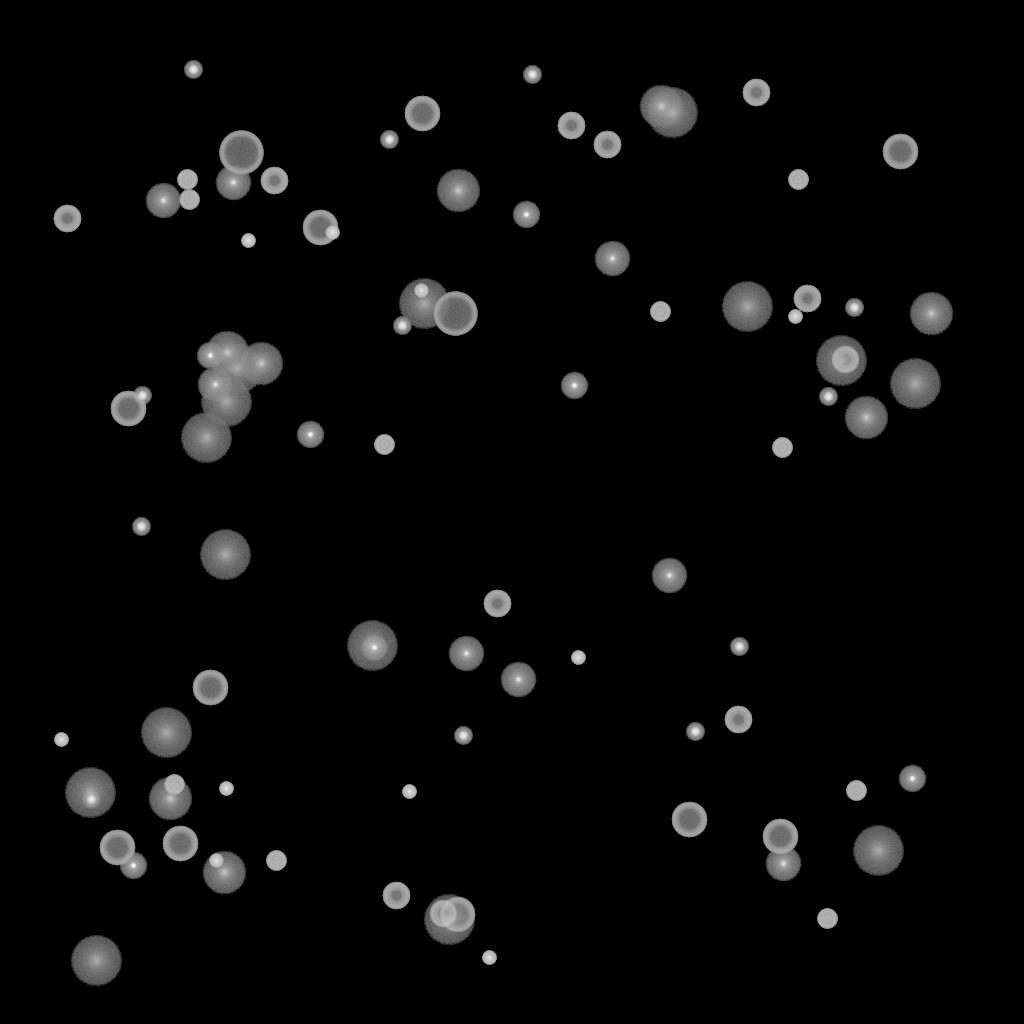depth:-10: (512, 201, 540, 229), (296, 421, 324, 449), (360, 634, 388, 662), (196, 342, 224, 370), (119, 852, 147, 880), (898, 765, 926, 793), (560, 372, 588, 400)
depth:-20: (133, 387, 151, 405), (82, 791, 100, 809), (184, 61, 202, 79), (380, 131, 398, 149), (686, 723, 704, 741), (523, 66, 541, 84), (393, 317, 411, 335), (132, 518, 150, 536), (454, 727, 472, 745), (819, 388, 837, 406), (845, 299, 863, 317), (730, 638, 748, 656)
depth:-30: (209, 854, 223, 868), (788, 310, 802, 324), (325, 226, 339, 240), (241, 234, 255, 248), (219, 782, 233, 796), (414, 284, 428, 298), (54, 733, 68, 747), (482, 951, 496, 965), (402, 785, 416, 799), (571, 651, 585, 665)
depth:-40: (650, 302, 670, 322), (179, 190, 199, 210), (846, 781, 866, 801), (266, 851, 286, 871), (788, 170, 808, 190), (817, 909, 837, 929), (177, 170, 197, 190), (374, 435, 394, 455), (164, 775, 184, 795), (772, 438, 792, 458)
depth:-50: (593, 131, 621, 159), (724, 706, 752, 734), (793, 285, 821, 313), (382, 882, 410, 910), (742, 79, 770, 107), (557, 112, 585, 140), (53, 205, 81, 233), (260, 167, 288, 195), (831, 346, 859, 374), (483, 590, 511, 618), (429, 900, 457, 928)
depth:-60: (302, 210, 338, 246), (671, 802, 707, 838), (192, 670, 228, 706), (404, 96, 440, 132), (110, 391, 146, 427), (99, 830, 135, 866), (162, 826, 198, 862), (762, 819, 798, 855), (882, 134, 918, 170), (439, 897, 475, 933)
depth:-70: (433, 292, 477, 336), (219, 131, 263, 175)
depth:0: (145, 183, 181, 219), (197, 367, 233, 403), (215, 165, 251, 201), (651, 558, 687, 594), (448, 636, 484, 672), (500, 662, 536, 698), (594, 241, 630, 277), (765, 846, 801, 882)
depth:10: (844, 396, 888, 440), (202, 851, 246, 895), (239, 342, 283, 386), (148, 777, 192, 821), (436, 169, 480, 213), (909, 292, 953, 336), (639, 85, 683, 129), (205, 331, 249, 375)
depth:20: (852, 826, 904, 876), (211, 344, 263, 394), (721, 282, 773, 332), (199, 530, 251, 580), (398, 279, 450, 329), (200, 377, 252, 427), (346, 621, 398, 671), (64, 768, 116, 818), (140, 708, 192, 758), (889, 359, 941, 409), (815, 336, 867, 386), (646, 88, 698, 138), (180, 413, 232, 463), (423, 895, 475, 945), (70, 936, 122, 986)
